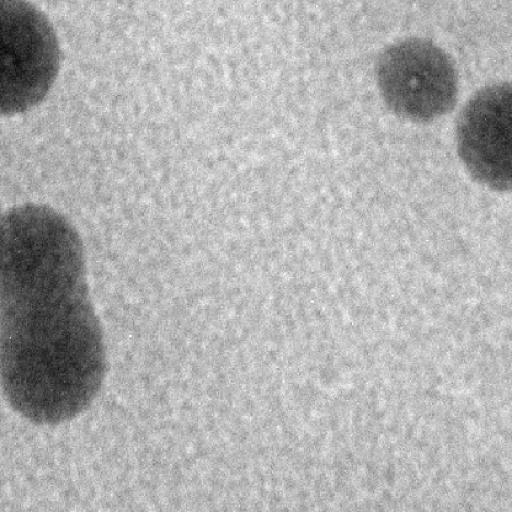Nanoparticles: (0, 316, 108, 428), (0, 271, 100, 369), (0, 202, 92, 300), (0, 0, 66, 116), (376, 36, 461, 122), (454, 81, 512, 193)
